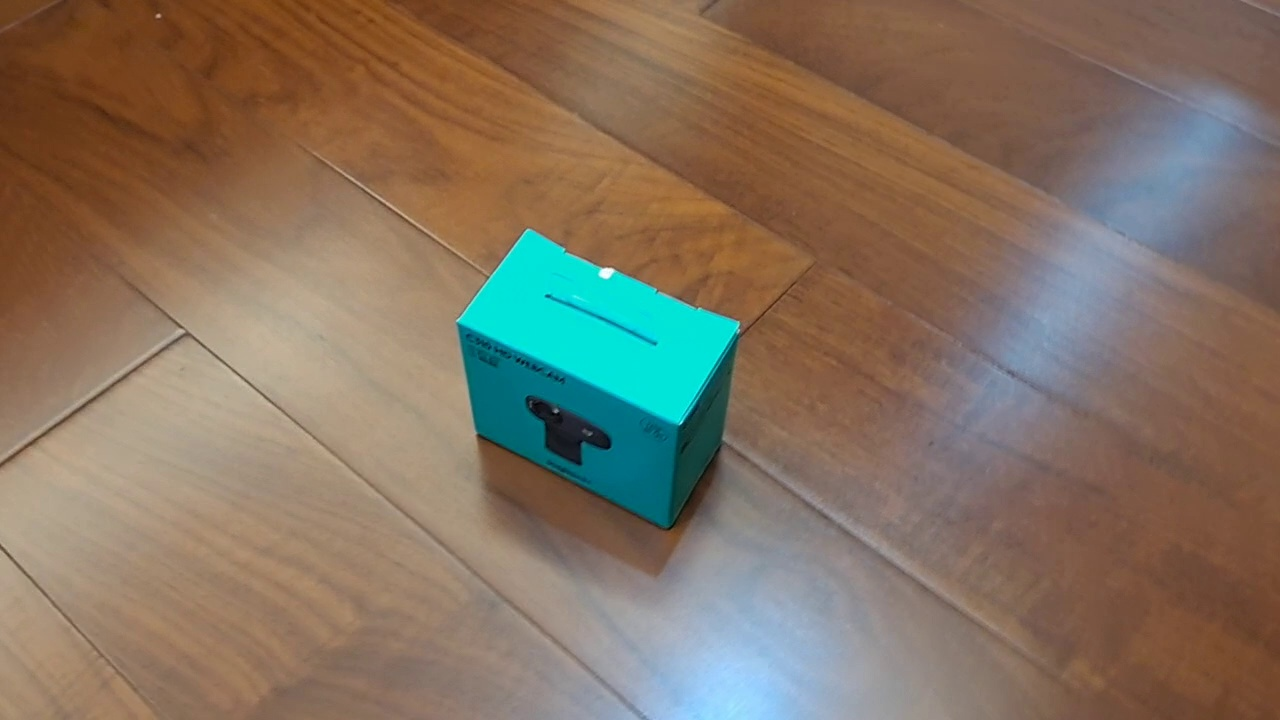webcam: (455, 226, 742, 531)
